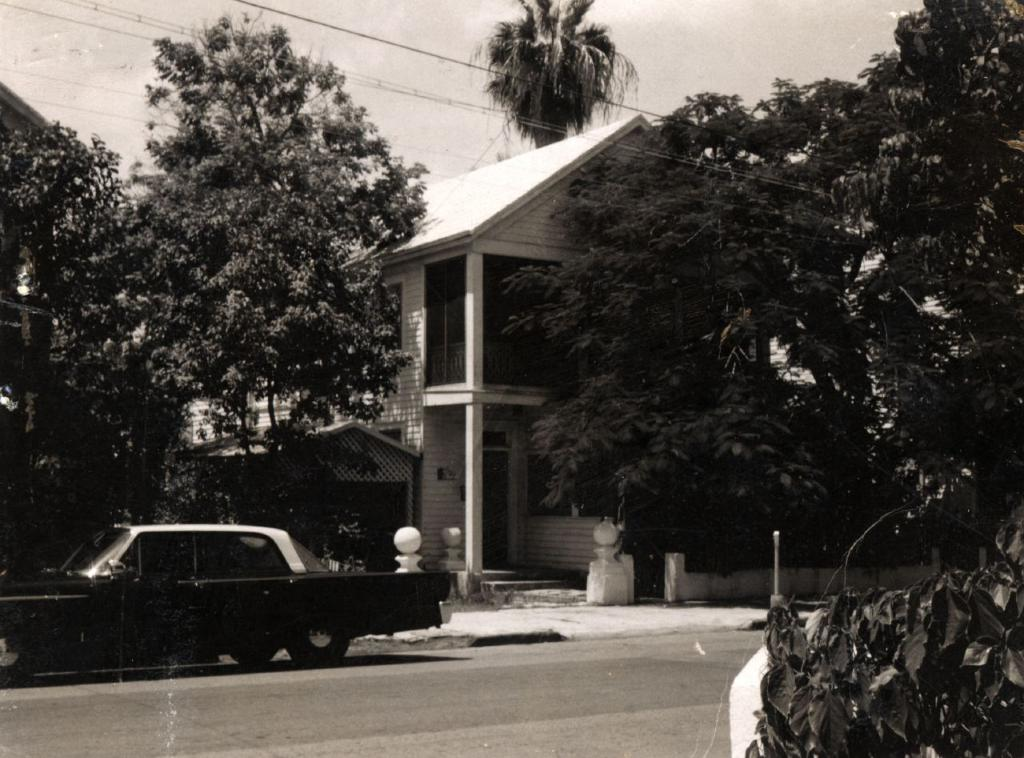Car: (56, 520, 441, 668)
